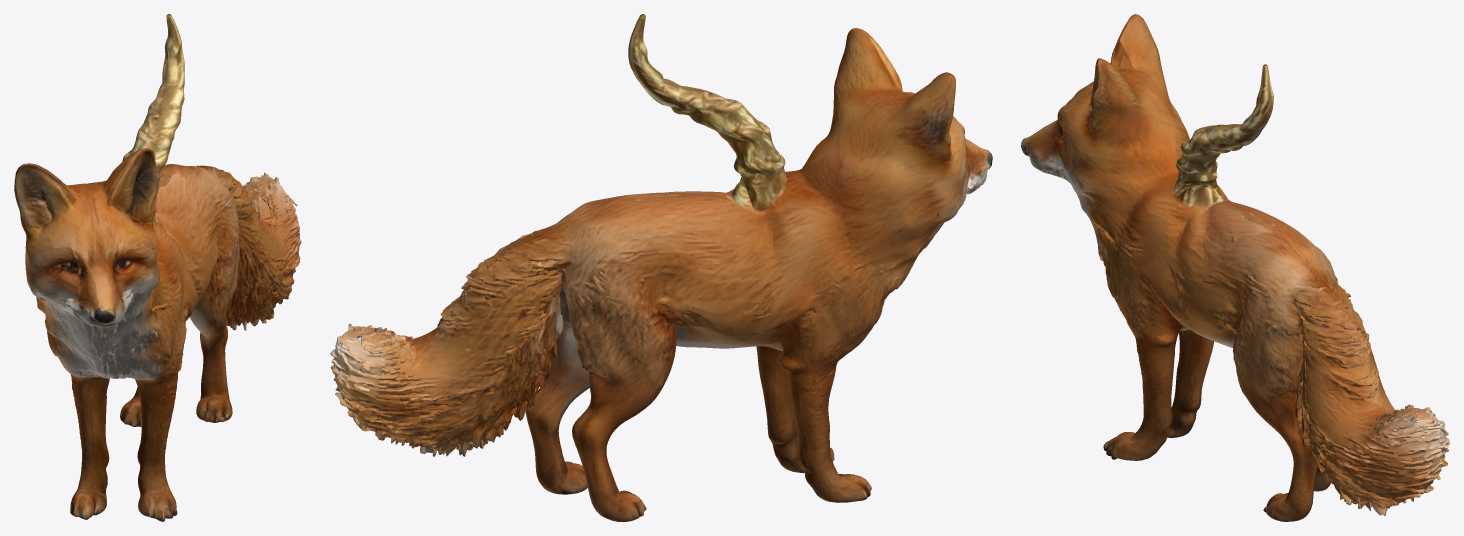
Rendered from chenghuang.glb.
3 views of the same model, side by side, from view 1: azimuth 30°, elevation 25°; view 2: azimuth 150°, elevation 25°; view 3: azimuth 270°, elevation 25° (orthographic). The views are drawn at different scales.
Visible parts, largest first — view 1: geometry_0; view 2: geometry_0; view 3: geometry_0.
Boxes of the visible parts, x1,y1,x2,y2 form: geometry_0: (14,14,301,521); geometry_0: (330,14,992,521); geometry_0: (1021,14,1449,521).
Bounding box in the file's own units: 0.8999 × 0.9037 × 0.8181.
Materials: 1 (1 with a texture image).
